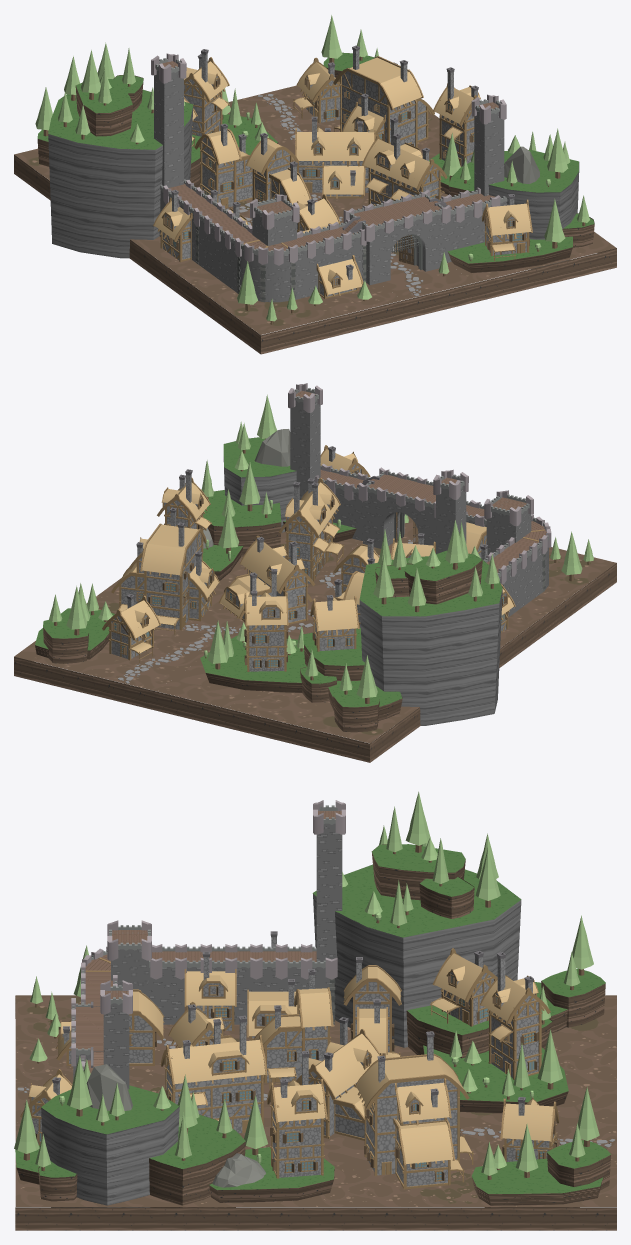
3 renders of one model, top to bottom at view 1: azimuth 30°, elevation 25°; view 2: azimuth 150°, elevation 25°; view 3: azimuth 270°, elevation 25°, orthographic. The views are drawn at different scales.
Visible parts, largest first — view 1: pCube1232_Casa_01_Mat_0, pCube806_lambert71_0, polySurface848_Mura_01_TileMat_0, pCube2204_Bordo_Zolla_01_Mat_0, pCube2216_Bordo_Zolla_02_Mat_0, pCube1232_Mura_03_TileMat_0, pCube2204_Erba_01_TileMat_0, pCube6412_Terreno_TileMat_4_0, polySurface848_Passerella_Legno_TopMura_TileMura_0, pCube6404_Terreno_TileMat_8_0, pCube6399_Terreno_TileMat_3_0, pCube6402_Terreno_TileMat_2_0 (+1 smaller); view 2: pCube1232_Casa_01_Mat_0, pCube2204_Bordo_Zolla_01_Mat_0, pCube2216_Bordo_Zolla_02_Mat_0, pCube806_lambert71_0, pCube2204_Erba_01_TileMat_0, polySurface848_Mura_01_TileMat_0, pCube1232_Mura_03_TileMat_0, pCube6412_Terreno_TileMat_4_0, pCube6404_Terreno_TileMat_8_0, pCube6402_Terreno_TileMat_2_0, pCube6399_Terreno_TileMat_3_0, polySurface848_Passerella_Legno_TopMura_TileMura_0 (+2 smaller); view 3: pCube1232_Casa_01_Mat_0, pCube2204_Bordo_Zolla_01_Mat_0, pCube806_lambert71_0, pCube2204_Erba_01_TileMat_0, pCube1232_Mura_03_TileMat_0, pCube2216_Bordo_Zolla_02_Mat_0, polySurface848_Mura_01_TileMat_0, pCube6412_Terreno_TileMat_4_0, pCube6402_Terreno_TileMat_2_0, pCube6404_Terreno_TileMat_8_0, polySurface848_Passerella_Legno_TopMura_TileMura_0, pCube6399_Terreno_TileMat_3_0 (+3 smaller).
Boxes of the visible parts, x1,y1,x2,y2 form: pCube1232_Casa_01_Mat_0: (35,15,589,324); pCube806_lambert71_0: (153,45,539,302); polySurface848_Mura_01_TileMat_0: (154,70,506,302); pCube2204_Bordo_Zolla_01_Mat_0: (14,52,616,354); pCube2216_Bordo_Zolla_02_Mat_0: (48,103,579,269); pCube1232_Mura_03_TileMat_0: (162,50,526,296); pCube2204_Erba_01_TileMat_0: (37,52,594,263); pCube6412_Terreno_TileMat_4_0: (130,85,545,317); polySurface848_Passerella_Legno_TopMura_TileMura_0: (168,183,495,251); pCube6404_Terreno_TileMat_8_0: (14,132,331,334); pCube6399_Terreno_TileMat_3_0: (137,182,616,274); pCube6402_Terreno_TileMat_2_0: (199,103,473,300); pCube1232_Casa_01_Mat_0: (49,383,593,703); pCube2204_Bordo_Zolla_01_Mat_0: (14,518,616,762); pCube2216_Bordo_Zolla_02_Mat_0: (223,437,502,725); pCube806_lambert71_0: (102,429,545,683); pCube2204_Erba_01_TileMat_0: (35,437,502,707); polySurface848_Mura_01_TileMat_0: (290,399,548,617); pCube1232_Mura_03_TileMat_0: (111,450,506,671); pCube6412_Terreno_TileMat_4_0: (86,578,575,725); pCube6404_Terreno_TileMat_8_0: (198,532,616,743); pCube6402_Terreno_TileMat_2_0: (157,516,412,708); pCube6399_Terreno_TileMat_3_0: (14,557,534,673); polySurface848_Passerella_Legno_TopMura_TileMura_0: (319,469,546,572); pCube1232_Casa_01_Mat_0: (14,791,599,1181); pCube2204_Bordo_Zolla_01_Mat_0: (15,844,616,1230); pCube806_lambert71_0: (17,931,614,1190); pCube2204_Erba_01_TileMat_0: (15,844,610,1193); pCube1232_Mura_03_TileMat_0: (31,937,554,1186); pCube2216_Bordo_Zolla_02_Mat_0: (41,864,521,1207); polySurface848_Mura_01_TileMat_0: (73,823,342,1130); pCube6412_Terreno_TileMat_4_0: (15,1020,616,1206); pCube6402_Terreno_TileMat_2_0: (15,1080,616,1206); pCube6404_Terreno_TileMat_8_0: (15,995,616,1122); polySurface848_Passerella_Legno_TopMura_TileMura_0: (74,951,316,1073); pCube6399_Terreno_TileMat_3_0: (15,1024,616,1206).
Size of the model in its own units: 1.26 by 0.5734 by 1.34.
Materials: 16 (16 with a texture image).
